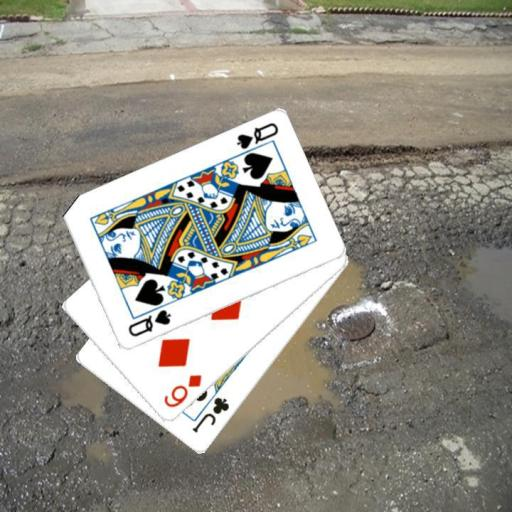6D: (161, 371, 203, 410)
JC: (189, 394, 231, 435)
QS: (124, 307, 173, 339), (233, 120, 280, 152)
